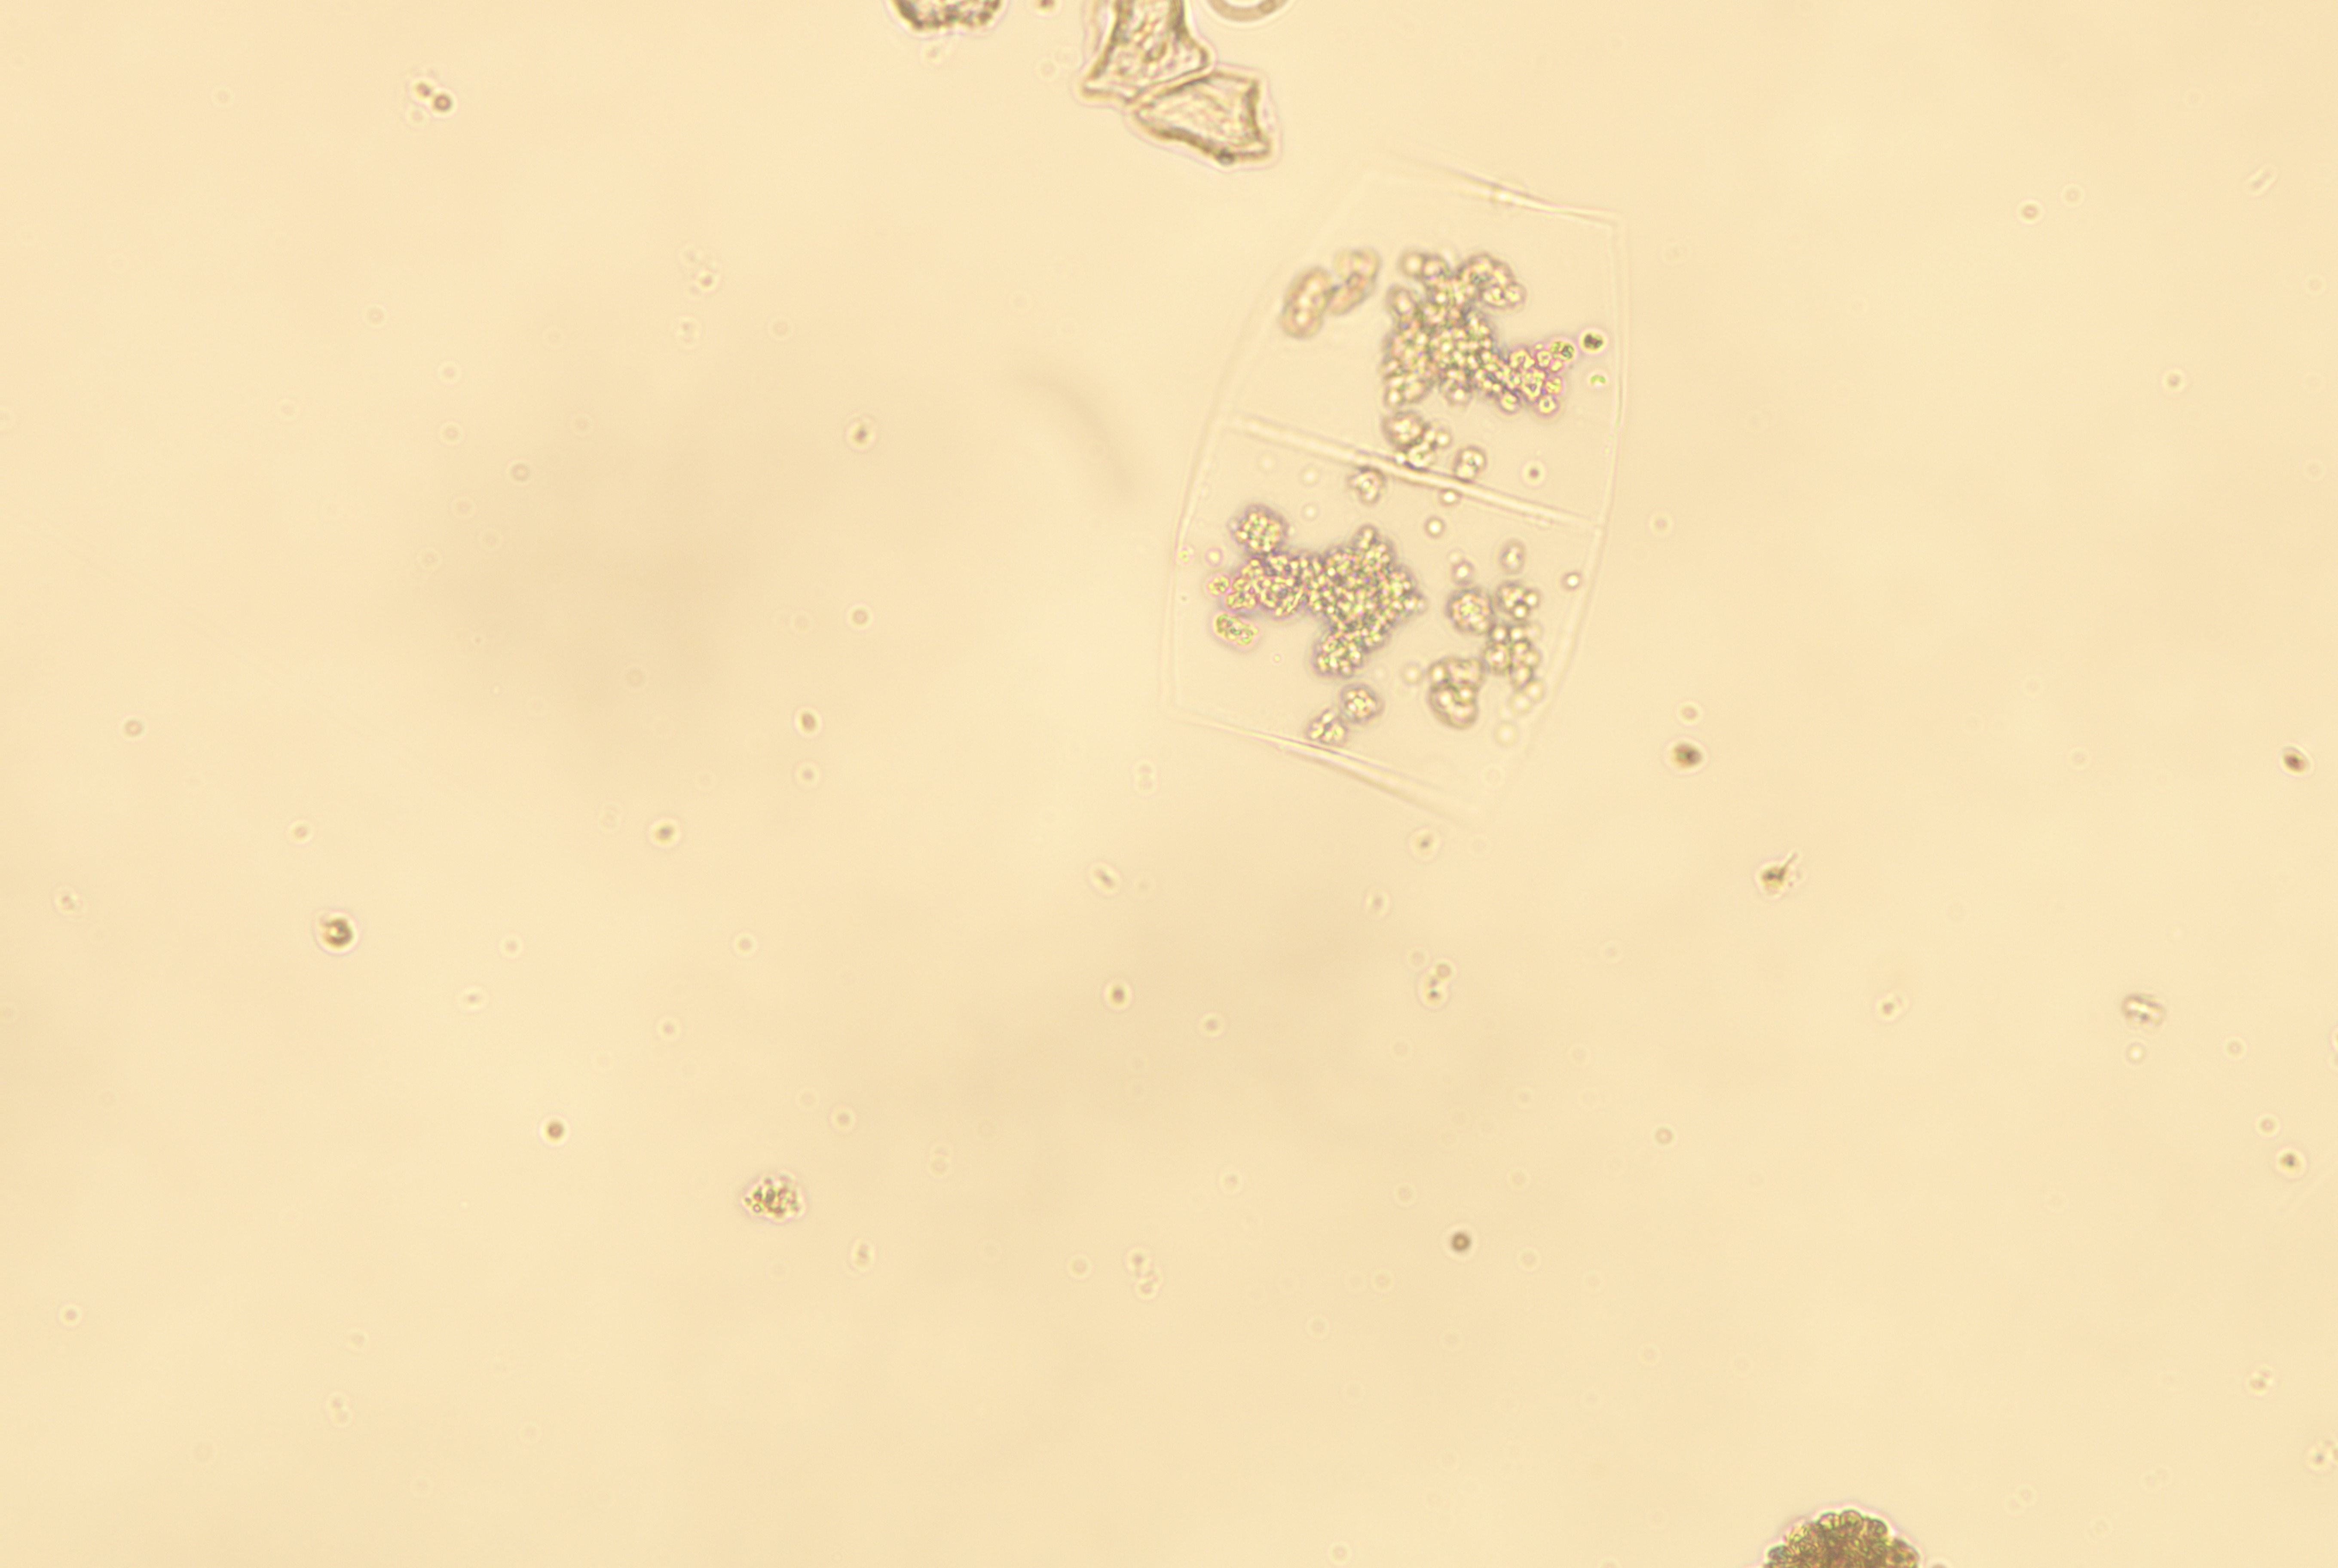helicotheca: (1150, 145, 1629, 817)
